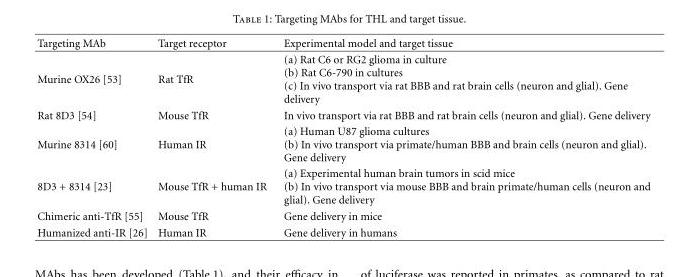table: (36, 36, 649, 238)
table column: (274, 36, 649, 238), (152, 36, 274, 238), (36, 36, 152, 238)
table column header: (36, 36, 649, 50)
table row: (36, 50, 649, 106), (36, 122, 649, 165), (36, 165, 649, 207), (36, 106, 649, 122), (36, 207, 649, 223), (36, 223, 649, 238), (36, 36, 649, 50)
